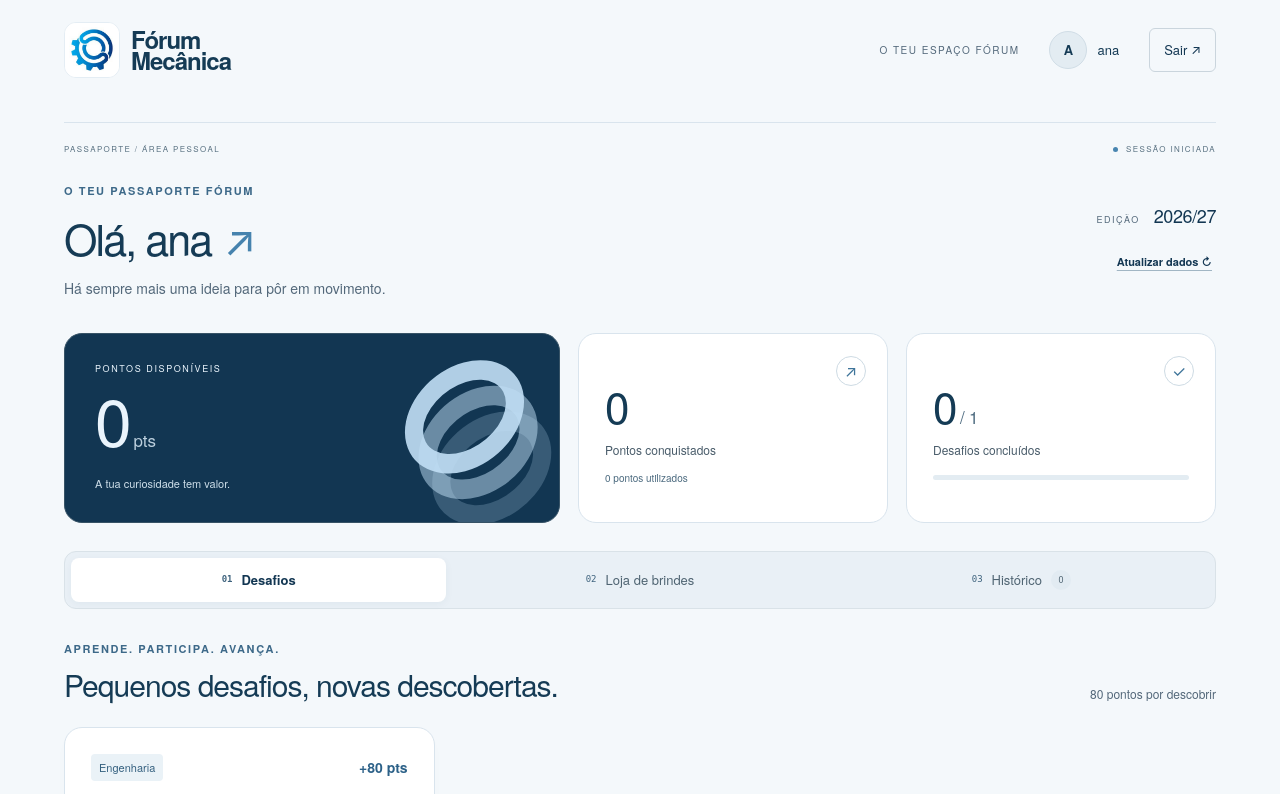
Test case: Passaporte › termina a sessão e regressa à entrada
The image size is (1280, 794).
Click the button "Sair ↗". click: (1183, 50)
box: top-left (1149, 28), bottom-right (1216, 72)
(page scrolled)
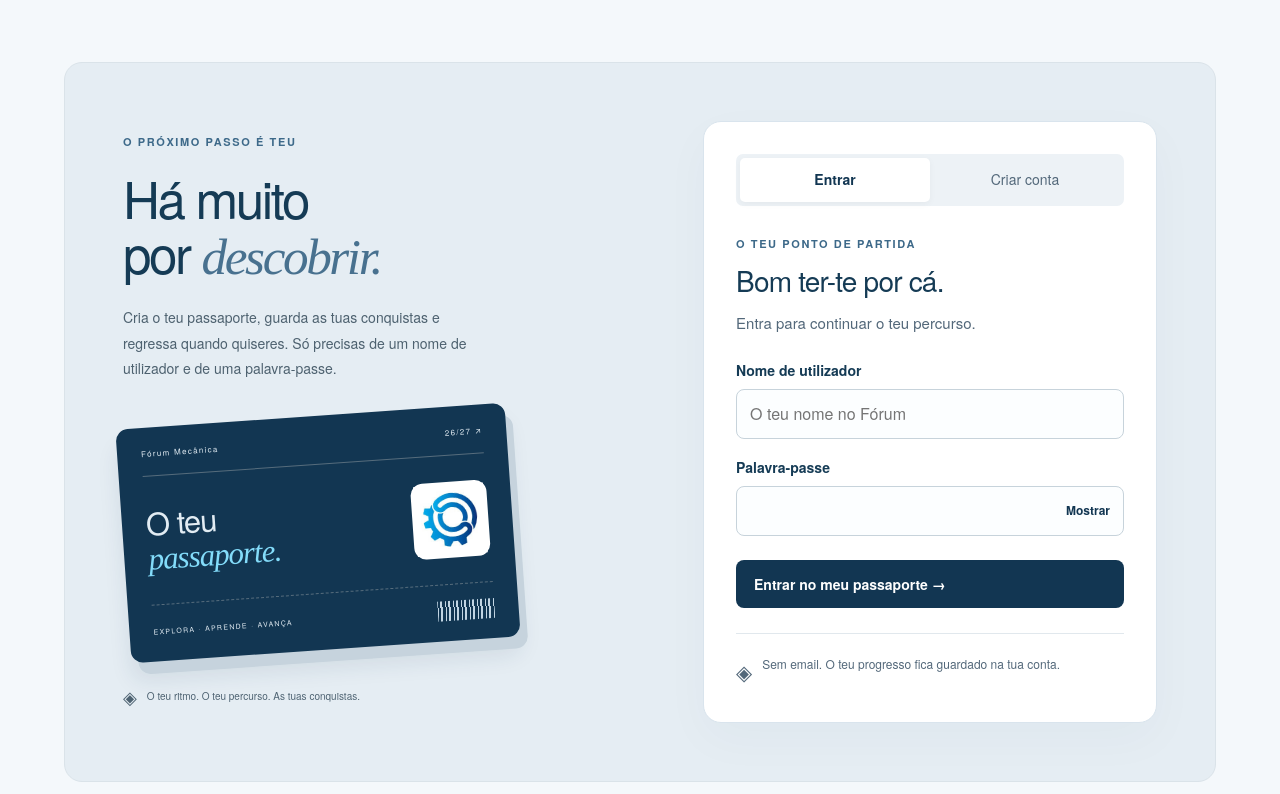
Result: the field labelled "Nome de utilizador" is shown at top-left (736, 389), bottom-right (1124, 439)
